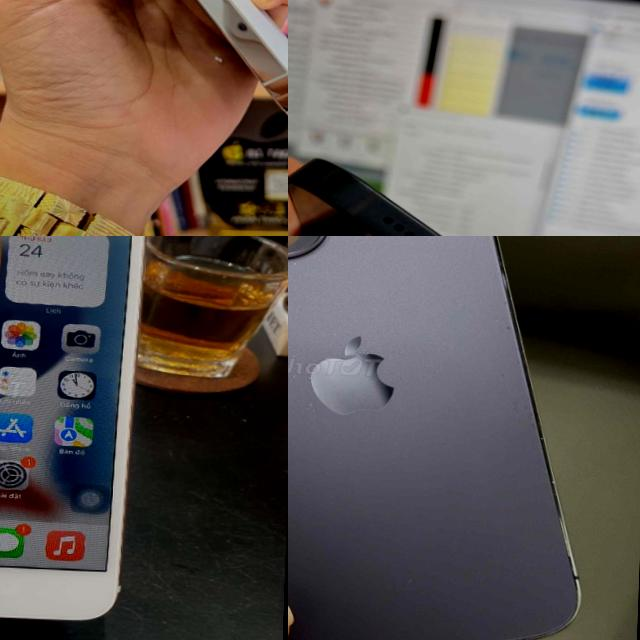gen_12_13: (288, 142, 633, 236)
gen_14: (288, 236, 613, 640), (0, 0, 288, 130)
gen_6: (0, 236, 156, 631)
